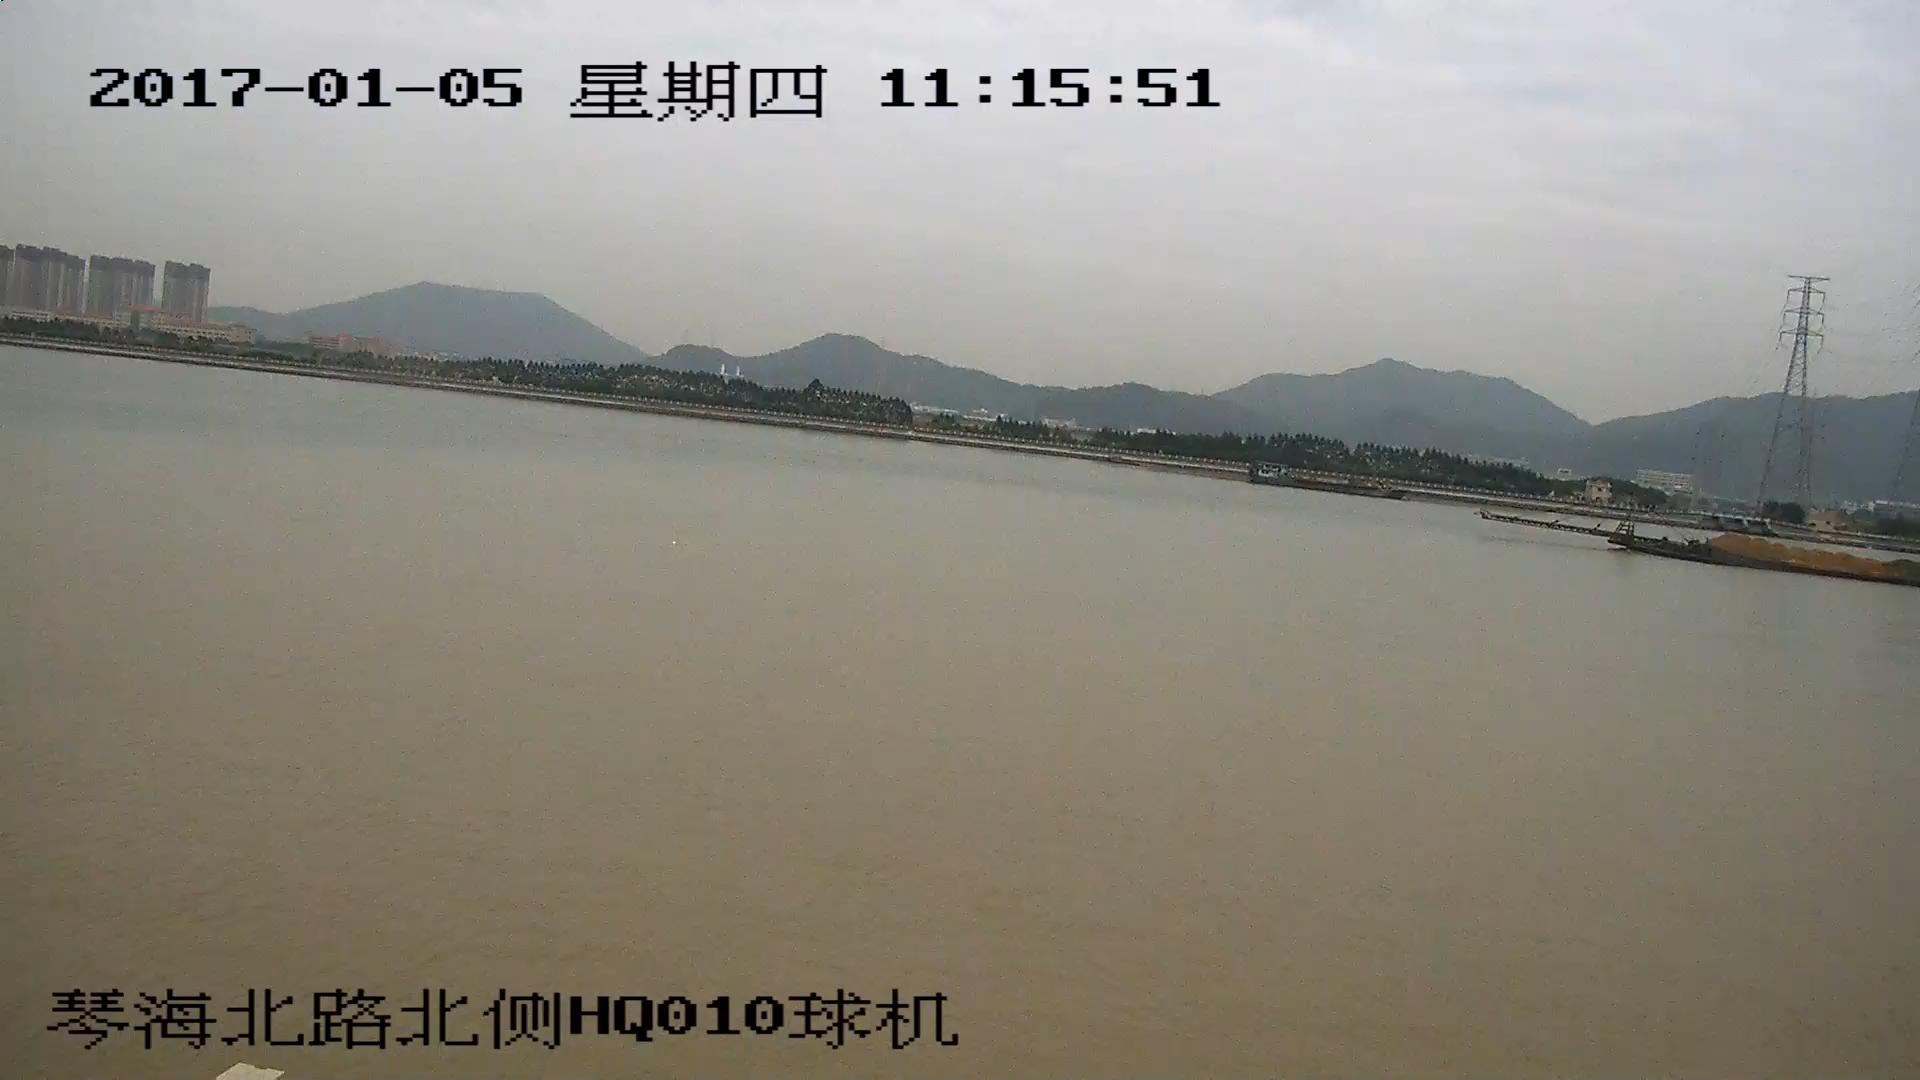ore carrier: (1492, 499, 1920, 583)
